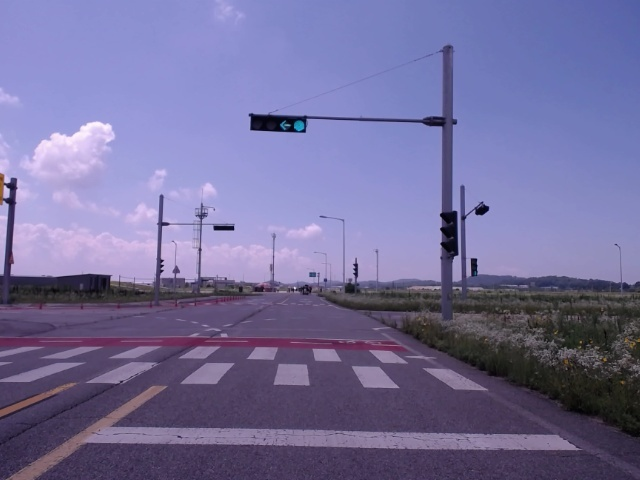all_green_4: (251, 114, 307, 134)
